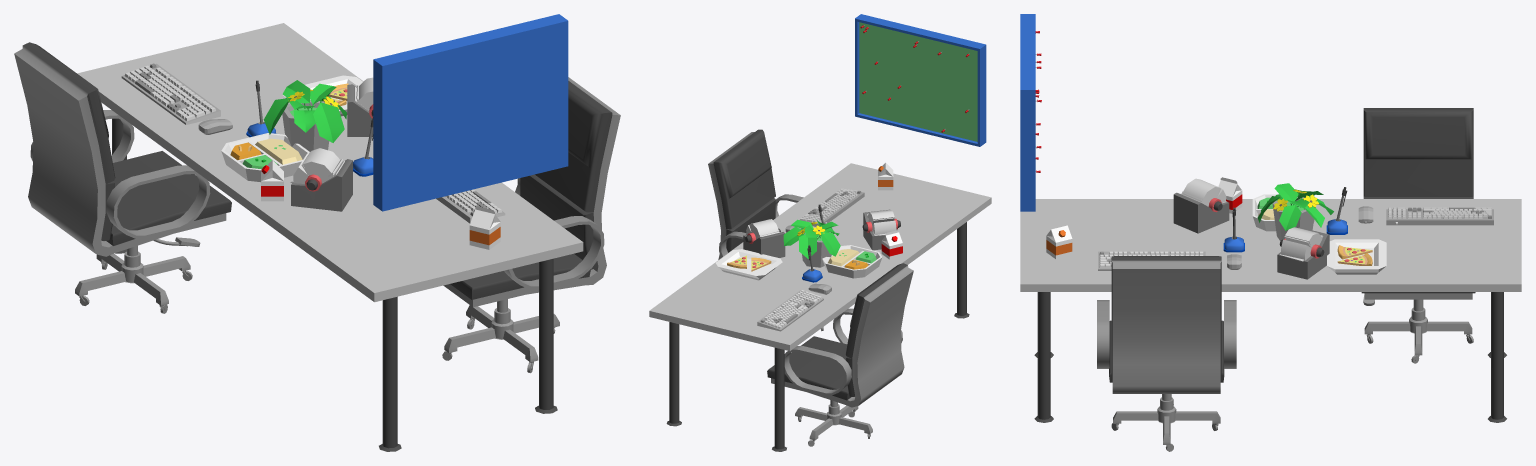
Rendered from OficinasObjetos04.fbx.
3 renders of one model, left to right at view 1: azimuth 30°, elevation 25°; view 2: azimuth 150°, elevation 25°; view 3: azimuth 270°, elevation 25°, orthographic. The views are drawn at different scales.
Visible parts, largest first — view 1: OficinasObjetos04; view 2: OficinasObjetos04; view 3: OficinasObjetos04.
Boxes of the visible parts, x1,y1,x2,y2 form: OficinasObjetos04: [14, 14, 620, 451]; OficinasObjetos04: [649, 14, 991, 451]; OficinasObjetos04: [1020, 14, 1521, 451].
Bounding box in the file's own units: 227 × 220 × 301.
